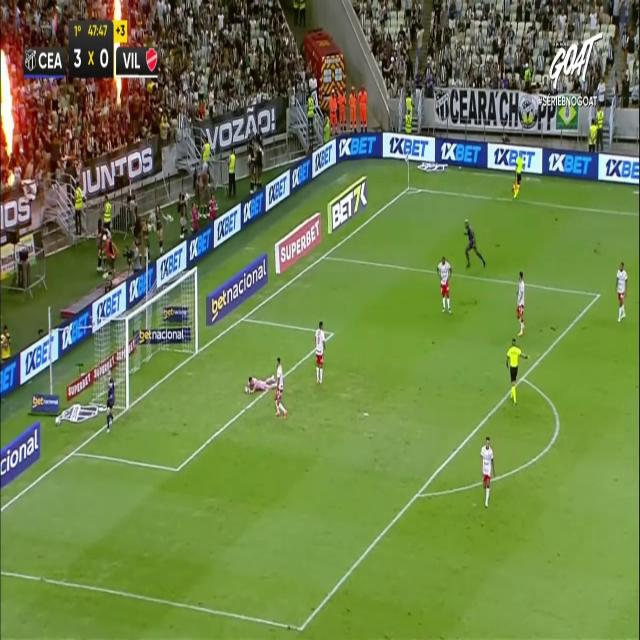player: (463, 218, 485, 268), (480, 436, 494, 507), (436, 255, 452, 314), (274, 357, 288, 419), (314, 320, 326, 384), (616, 260, 628, 322), (515, 270, 525, 336), (245, 373, 276, 394), (105, 375, 115, 432)
referee: (506, 337, 528, 404)
